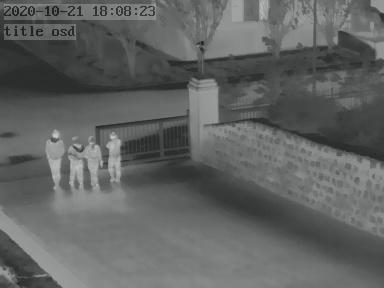person: (46, 125, 66, 192), (69, 129, 87, 187), (85, 135, 103, 189), (106, 132, 123, 183)
